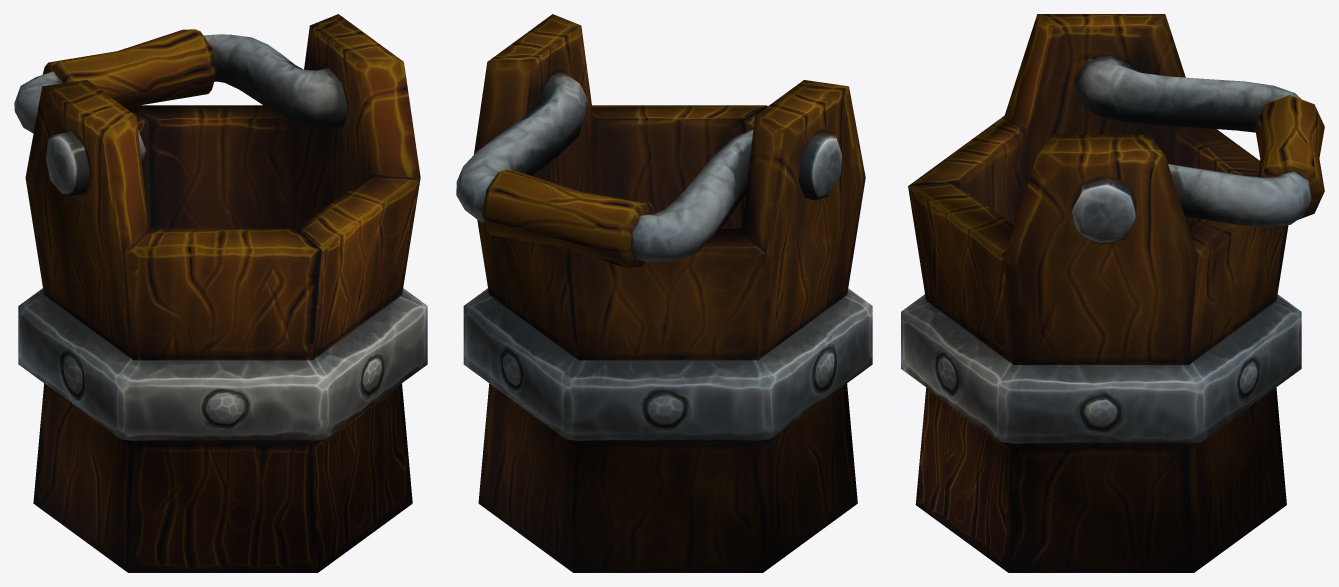
The model's file is stylized_low-poly_wood_metal_bucket.glb.
3 renders of one model, left to right at view 1: azimuth 30°, elevation 25°; view 2: azimuth 150°, elevation 25°; view 3: azimuth 270°, elevation 25°, orthographic. The views are drawn at different scales.
Visible parts, largest first — view 1: defaultMaterial (×4); view 2: defaultMaterial (×4); view 3: defaultMaterial (×4).
Part boxes in pixels (bbox=[...]): defaultMaterial (×4): bbox=[14, 14, 427, 572]; defaultMaterial (×4): bbox=[456, 14, 872, 572]; defaultMaterial (×4): bbox=[901, 14, 1324, 572].
Bounding box in the file's own units: 275 × 341 × 309.
2 materials, 2 textured.
